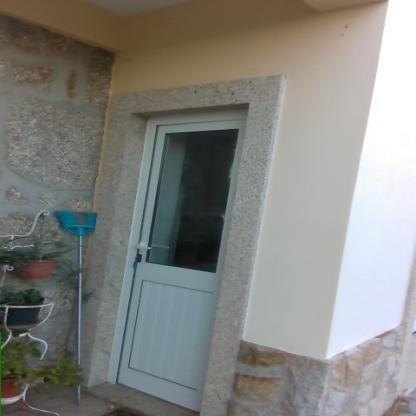closed: (104, 96, 263, 416)
